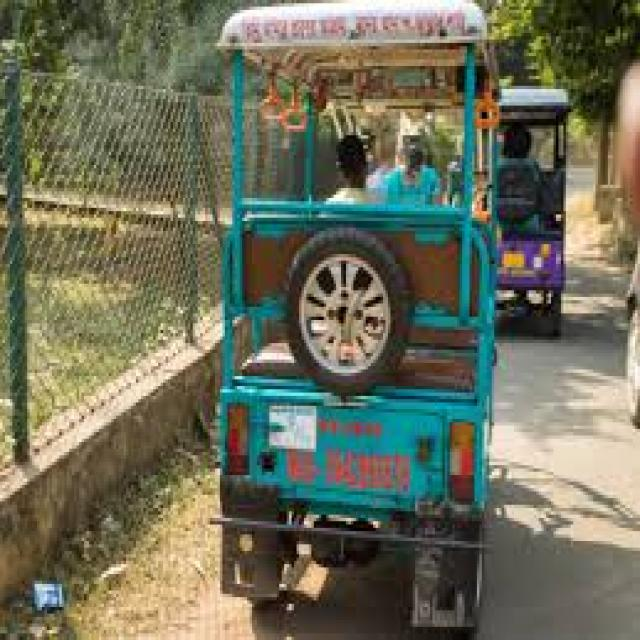Toto: (205, 0, 534, 607)
